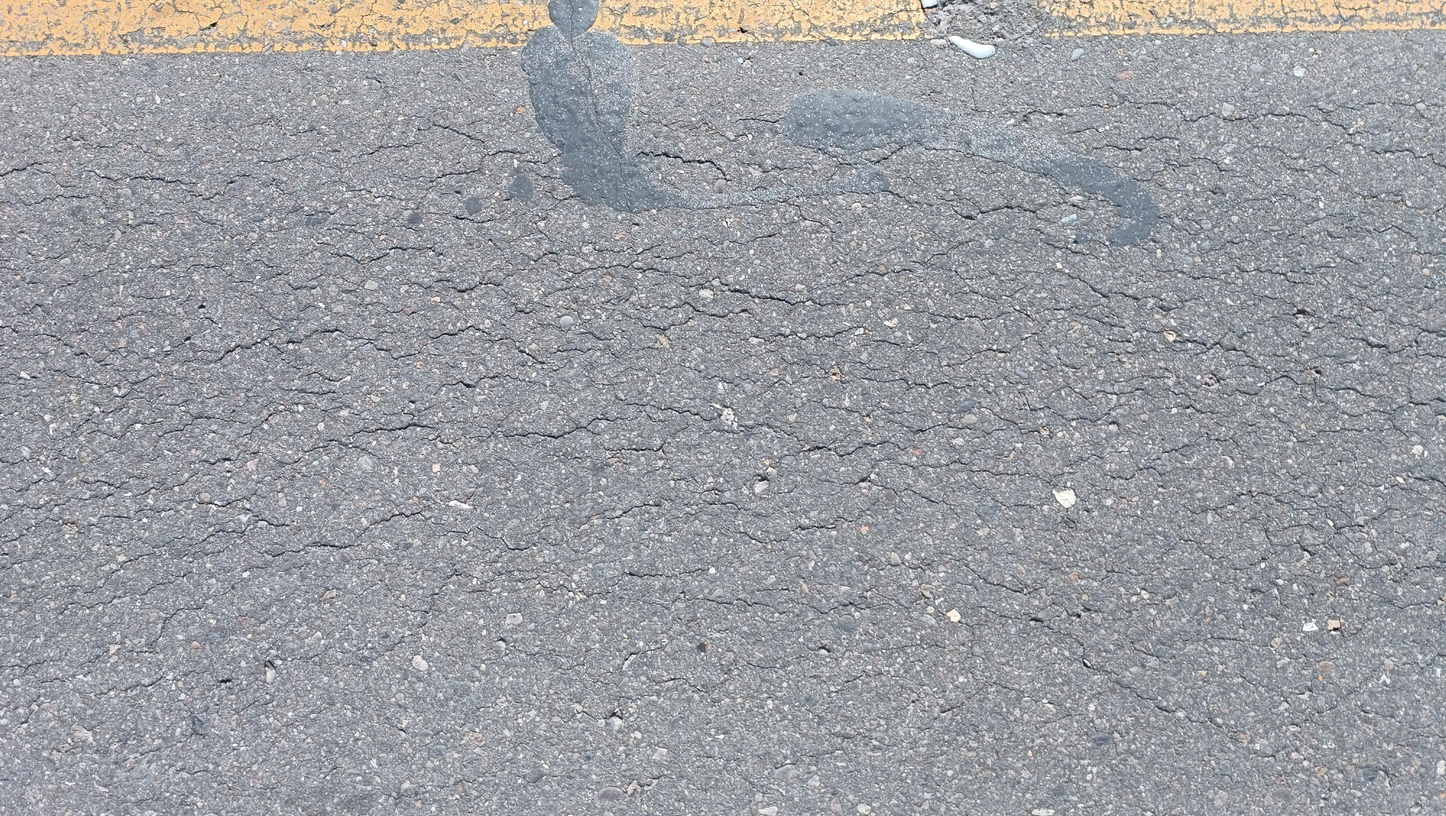PIEL DE COCODRILO: (0, 94, 1446, 808)
